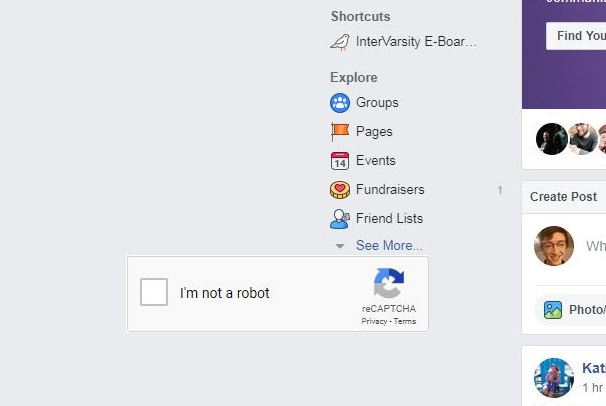captcha: (140, 277, 270, 306)
